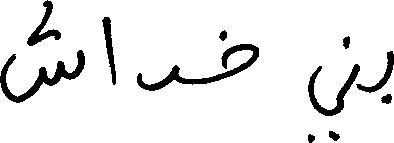X: (0, 0, 83, 107), (309, 32, 345, 142), (223, 25, 256, 83), (140, 60, 178, 95), (103, 12, 115, 89), (347, 31, 359, 95), (385, 46, 393, 108)
